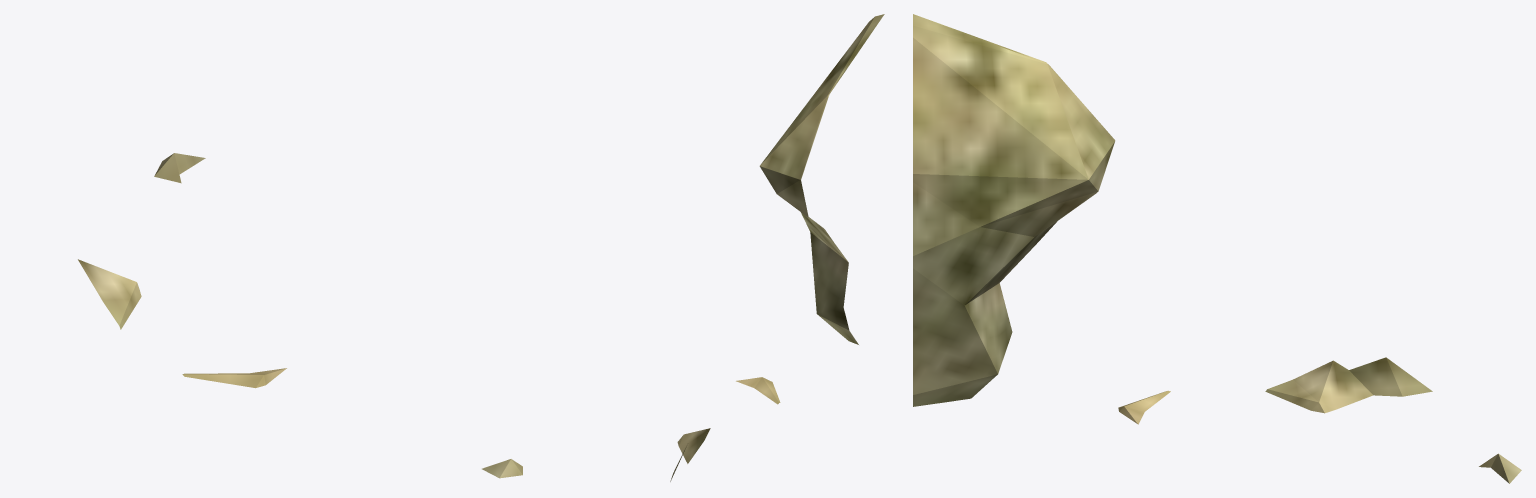
3 views of the same model, side by side, from view 1: azimuth 30°, elevation 25°; view 2: azimuth 150°, elevation 25°; view 3: azimuth 270°, elevation 25° (orthographic). The views are drawn at different scales.
Size of the model in its own units: 0.547 by 1.04 by 1.52.
Materials: 1 (1 with a texture image).
